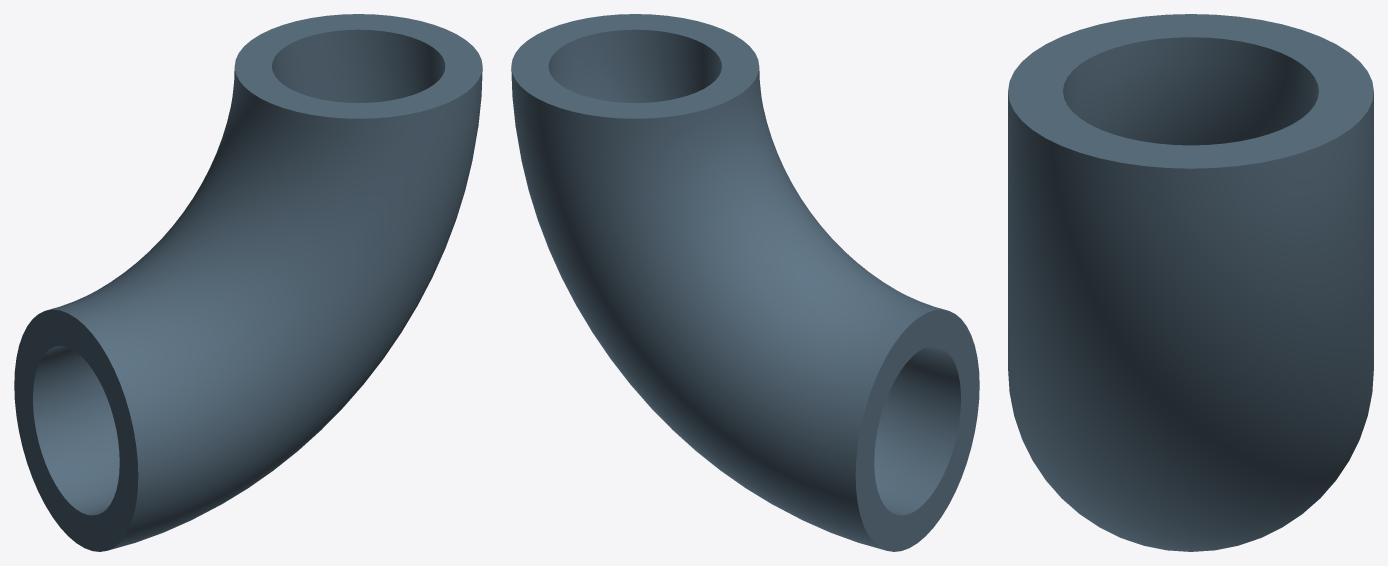
File: otvod-90-21_3x3_2-R28.glb
The picture shows the model from 3 angles, left to right: view 1: azimuth 30°, elevation 25°; view 2: azimuth 150°, elevation 25°; view 3: azimuth 270°, elevation 25°; orthographic projection. The views are drawn at different scales.
Parts seen in each view (by area): view 1: Open CASCADE STEP translator 7.9 2; view 2: Open CASCADE STEP translator 7.9 2; view 3: Open CASCADE STEP translator 7.9 2.
Boxes of the visible parts, x1=… form: Open CASCADE STEP translator 7.9 2: x1=14, y1=14, x2=482, y2=551; Open CASCADE STEP translator 7.9 2: x1=511, y1=14, x2=979, y2=551; Open CASCADE STEP translator 7.9 2: x1=1008, y1=14, x2=1373, y2=551.
Size of the model in its own units: 38.65 by 38.65 by 21.3.
